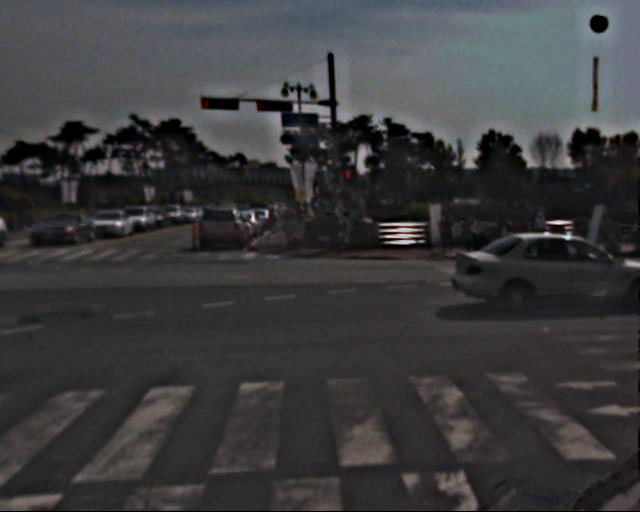person: (273, 204, 315, 247), (442, 211, 462, 259), (328, 205, 348, 253), (520, 213, 539, 260), (434, 206, 453, 252), (467, 210, 485, 255), (496, 217, 514, 262), (536, 208, 554, 252)
